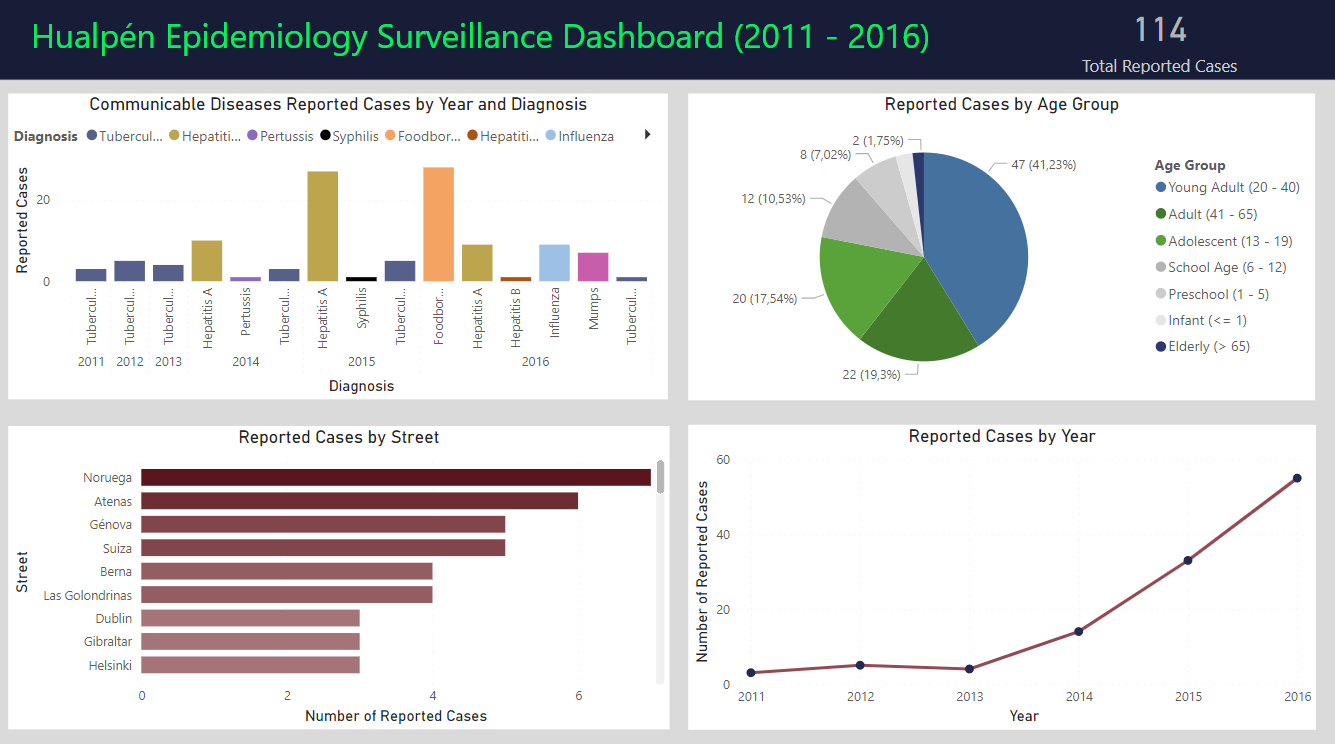

The dashboard page shown, as its layout file describes it:
{"tool":"powerbi","page":{"name":"Dashboard","canvas":[1280,720],"ordinal":0},"visuals":[{"type":"lineChart","title":"Reported Cases by Year","fields":{"Category":["transformed-epi-hualpen-data.year"],"Y":["CountNonNull(transformed-epi-hualpen-data.diagnosis)"]},"box":[658.6,408.7,597.5,290.6],"z":1500},{"type":"barChart","title":"Reported Cases by Street","fields":{"Category":["transformed-epi-hualpen-data.street"],"Y":["CountNonNull(transformed-epi-hualpen-data.diagnosis)"]},"box":[10.7,409.4,629.6,289.2],"z":3000},{"type":"pieChart","fields":{"Category":["transformed-epi-hualpen-data.age group"],"Y":["CountNonNull(transformed-epi-hualpen-data.diagnosis)"]},"box":[658.5,92.9,597,291.9],"z":4250},{"type":"columnChart","title":"Communicable Diseases Reported Cases by Year and Diagnosis","fields":{"Category":["transformed-epi-hualpen-data.year","transformed-epi-hualpen-data.diagnosis"],"Y":["CountNonNull(transformed-epi-hualpen-data.diagnosis)"],"Series":["transformed-epi-hualpen-data.diagnosis"]},"box":[10.7,92.8,628.4,291.6],"z":4500},{"type":"shape","box":[0,0,1280,79.7],"z":4750},{"type":"card","fields":{"Values":["_Measures.Count of Diagnosis"]},"box":[956.8,0,299.9,79.7],"z":5000},{"type":"textbox","box":[27.4,10.7,896.1,58.3],"z":6000}]}

Visuals, with their boxes in screenshot pixels (x1, y1, x2, y2), scaled from the page's 1280x720 canvas onto the 1335x744 screenshot:
"Reported Cases by Year" lineChart: 687/422/1310/723
"Reported Cases by Street" barChart: 11/423/668/722
pieChart - transformed-epi-hualpen-data.age group x CountNonNull(transformed-epi-hualpen-data.diagnosis): 687/96/1309/398
"Communicable Diseases Reported Cases by Year and Diagnosis" columnChart: 11/96/667/397
shape: 0/0/1334/82
card - _Measures.Count of Diagnosis: 998/0/1311/82
textbox: 29/11/963/71
